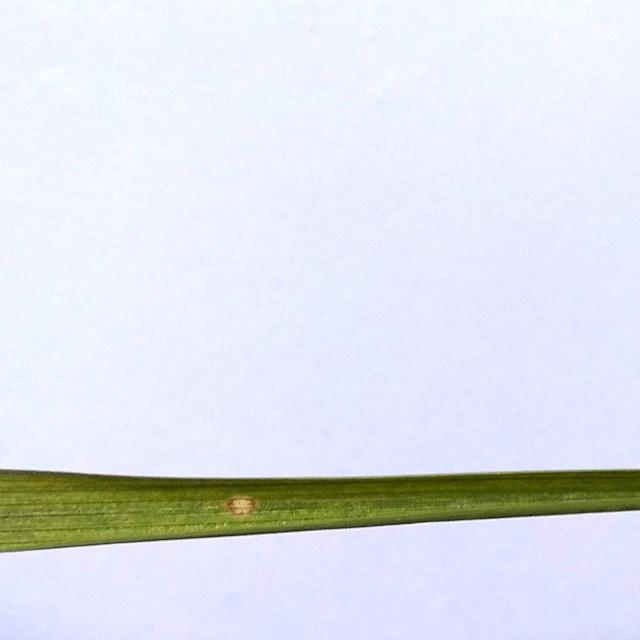Blast: (223, 490, 260, 520)
